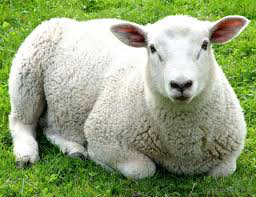koyun: (9, 9, 249, 180)
